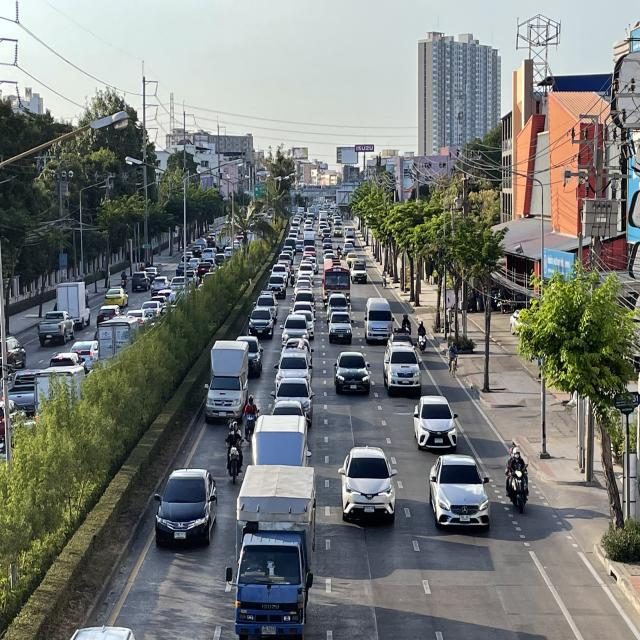bike: (506, 438, 530, 514), (223, 420, 245, 482), (236, 335, 264, 379), (243, 393, 260, 448), (418, 321, 428, 356), (402, 312, 412, 336)
bus: (322, 259, 351, 307)
car: (154, 465, 217, 552), (427, 452, 492, 536), (338, 443, 398, 527), (411, 392, 460, 452), (271, 378, 314, 424), (332, 351, 372, 397), (274, 346, 312, 390), (365, 297, 394, 344), (280, 313, 310, 346), (247, 308, 275, 338), (328, 311, 353, 344)
truck: (226, 464, 318, 640), (204, 340, 250, 424), (383, 332, 422, 397)
